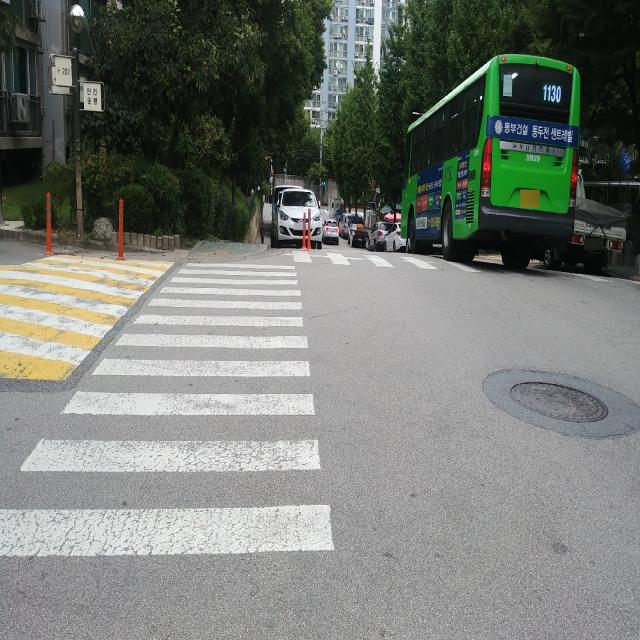횡단보도: (0, 261, 336, 561), (287, 249, 486, 277)
